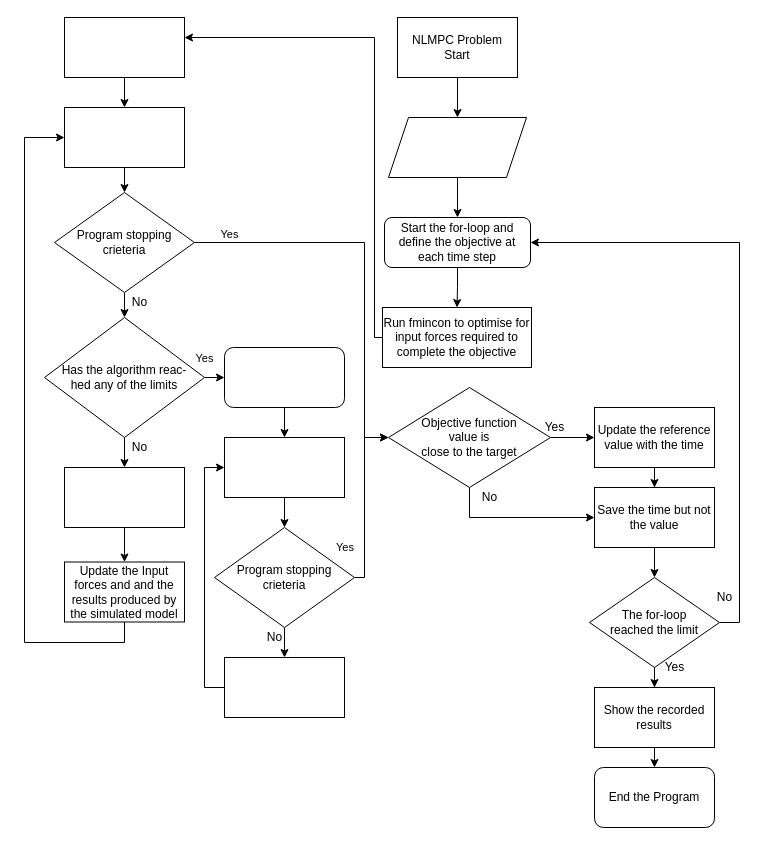
Some shapes in this 765 by 845 pixel diagram are drawn without their labels. The centre of each missing label's shape, as x and y in pixels:
"Evaluation of Input force" belongs at point (124, 137).
"Run optimisation function" belongs at point (284, 467).
"Set desired trajectoy as reference" belongs at point (457, 147).
"Simulate Plant Model" belongs at point (124, 497).
"Update the initial values" belongs at point (284, 687).
"Use the last know input force" belongs at point (124, 47).
"Use the last known values as initial conditions" belongs at point (284, 377).
